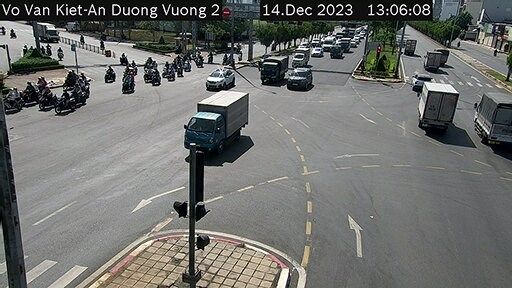car: (209, 64, 234, 91), (292, 65, 310, 91)
truck: (184, 88, 248, 152), (417, 77, 465, 131), (473, 89, 510, 150), (257, 53, 282, 86), (421, 49, 442, 69)
